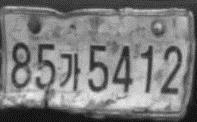1: (138, 44, 155, 95)
2: (159, 43, 183, 95)
4: (111, 44, 133, 94)
5: (86, 44, 108, 92), (34, 43, 56, 89)
8: (10, 41, 32, 89)
가: (58, 52, 81, 91)
